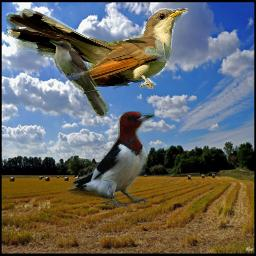Cuckoo: (6, 8, 188, 89), (49, 39, 109, 118)
Woodpecker: (67, 111, 156, 207)
